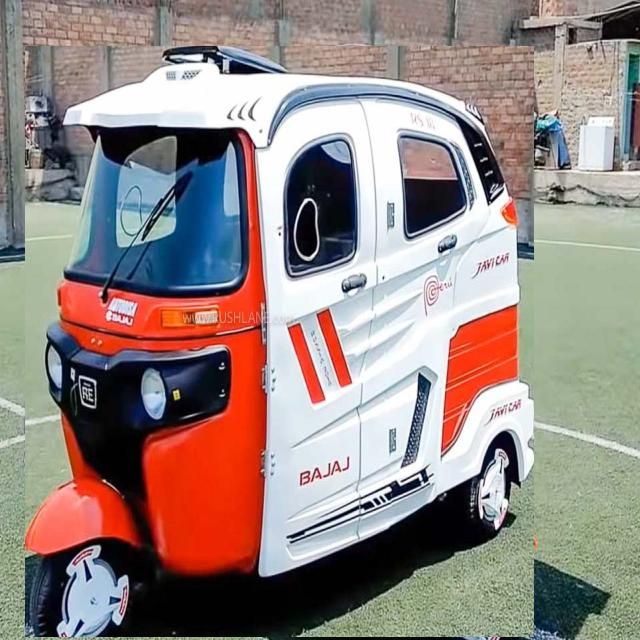autorickshaw: (25, 46, 534, 637)
